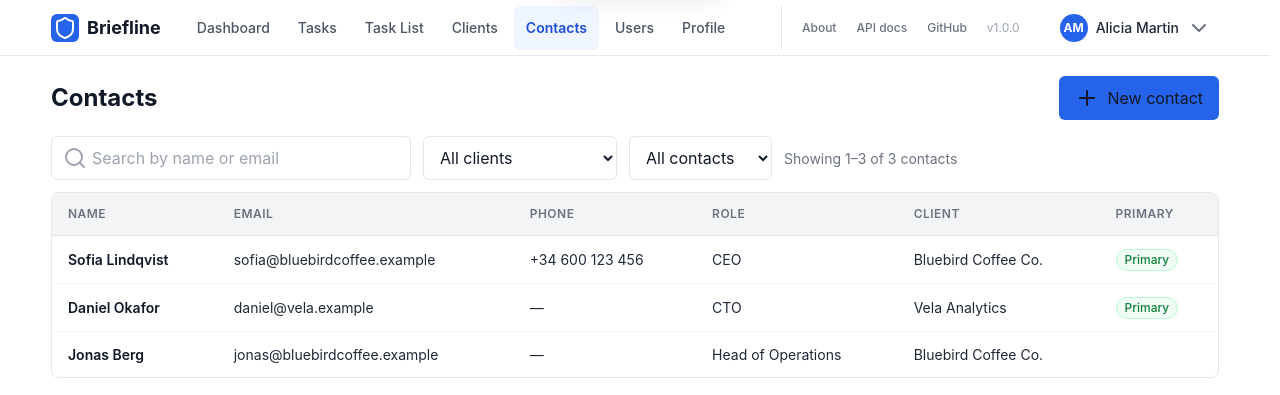
Test: Contact list › filters by client
Check: the heading "Contacts" is shown, box [51,83,157,113]
Check: the table named "Contacts" is shown, box [52,193,1218,377]
Select "Bluebird Coffee Co." in the dropdown named "Client filter": (520, 158) [423,136,617,180]
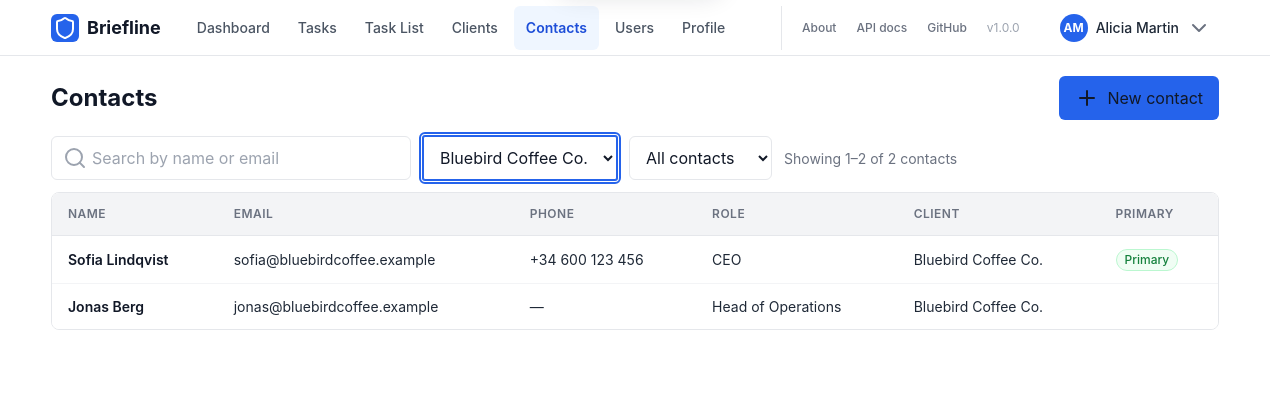
Check: the link "Sofia Lindqvist" is shown, box [68,251,168,268]
Check: the text "Showing 1–2 of 2 contacts" is shown, box [784,148,957,168]
Check: the link "Daniel Okafor" is gone
